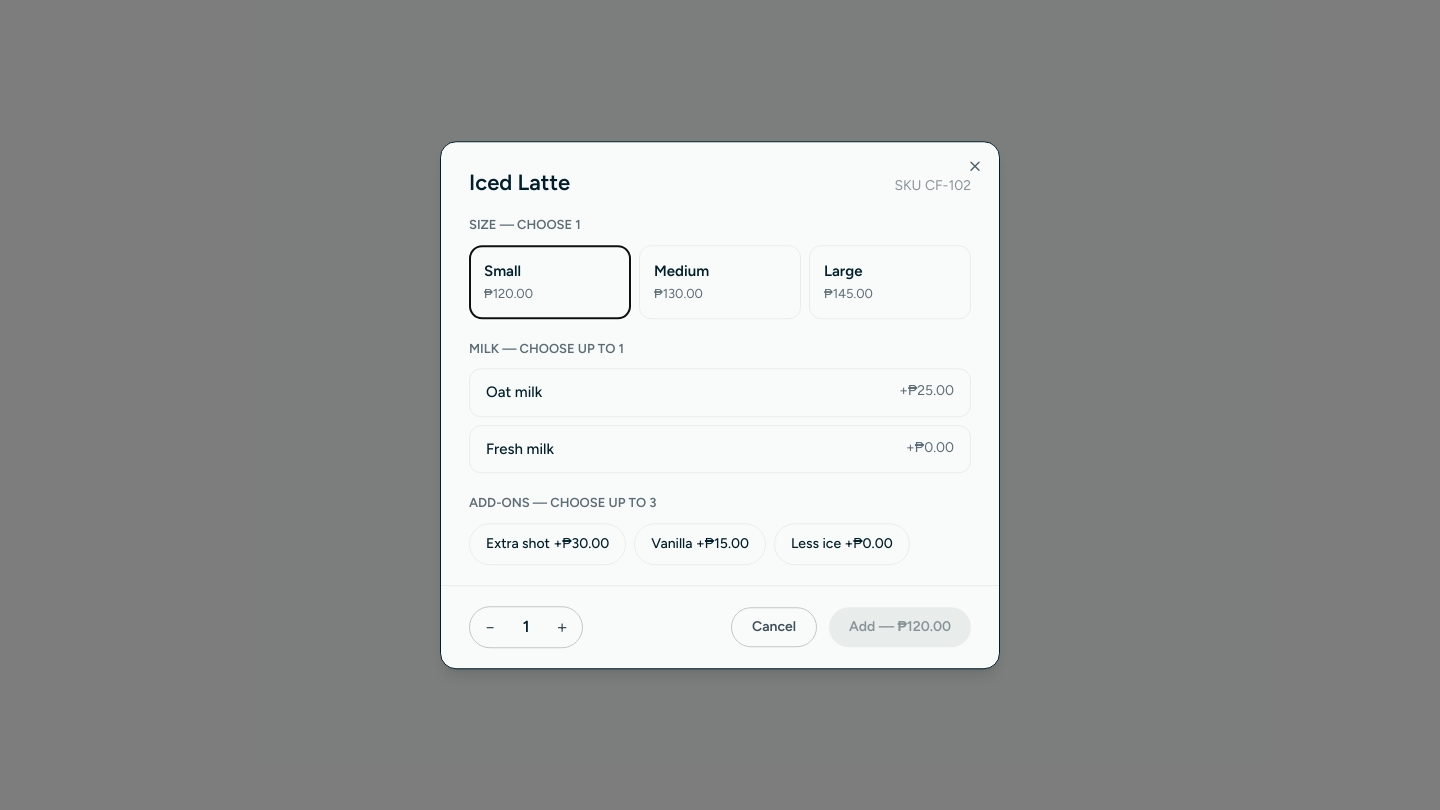
modifier deltas price into the Add button
The width and height of the screenshot is (1440, 810).
Click the button "Large ₱145.00" at (890, 282), box top-left (809, 245), bottom-right (971, 319)
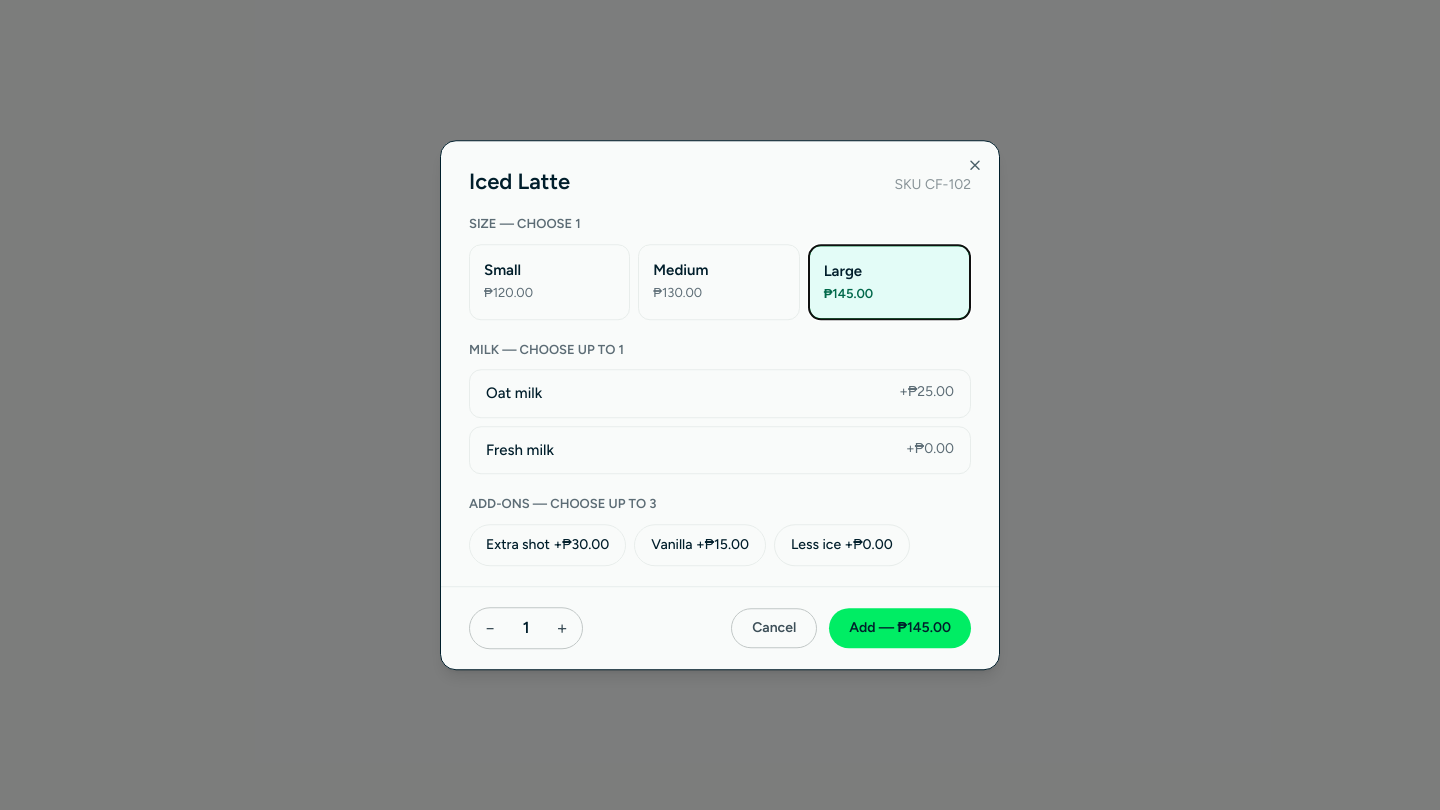
Click the button "Oat milk +₱25.00" at (514, 393), box top-left (469, 369), bottom-right (971, 418)
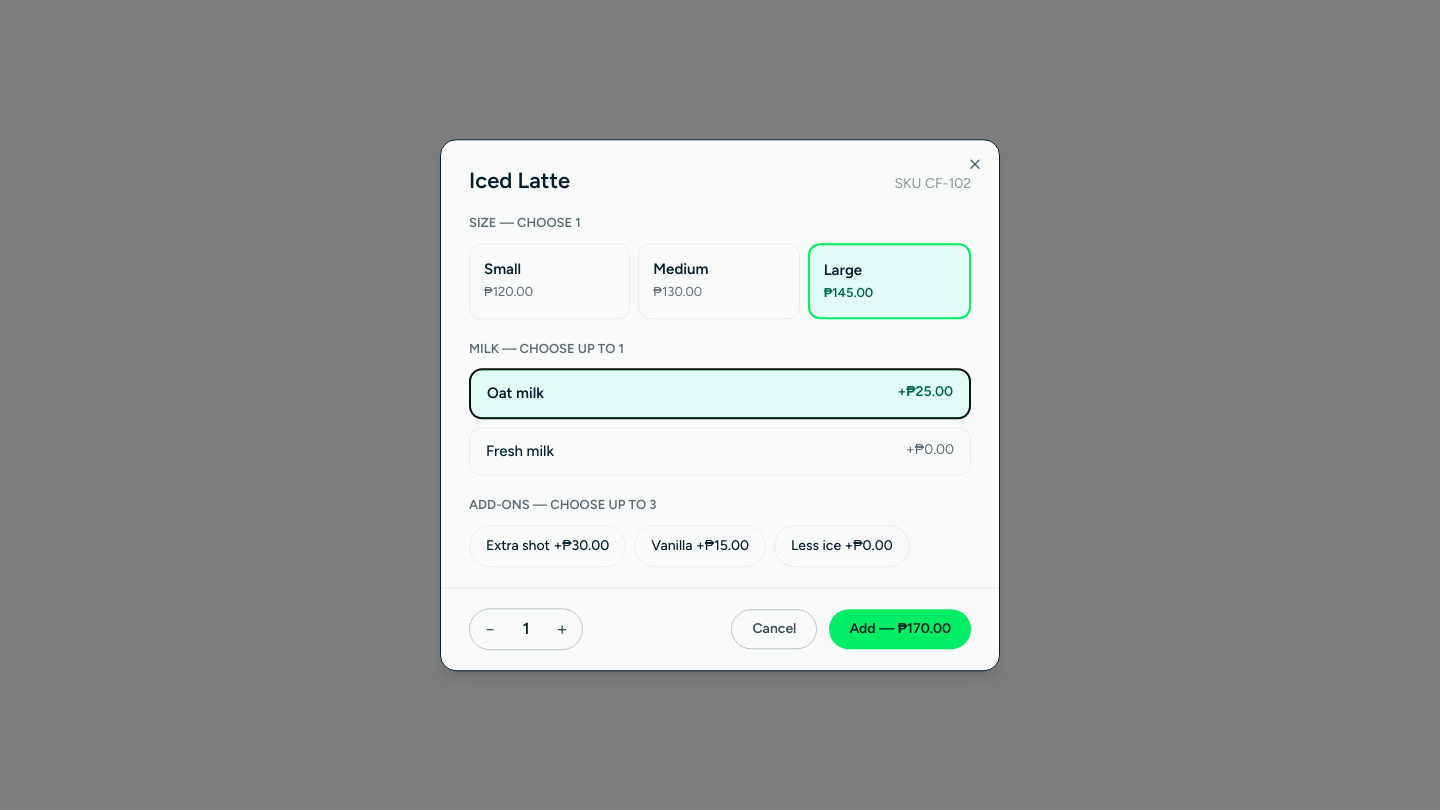
Expected: the button "Add — ₱170.00" is shown, top-left (829, 609), bottom-right (971, 649)
